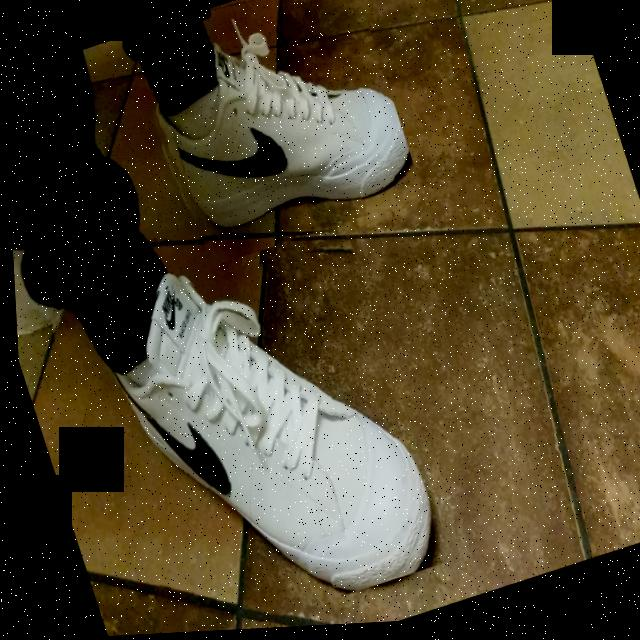shoe: (63, 225, 449, 638), (130, 1, 424, 275)
